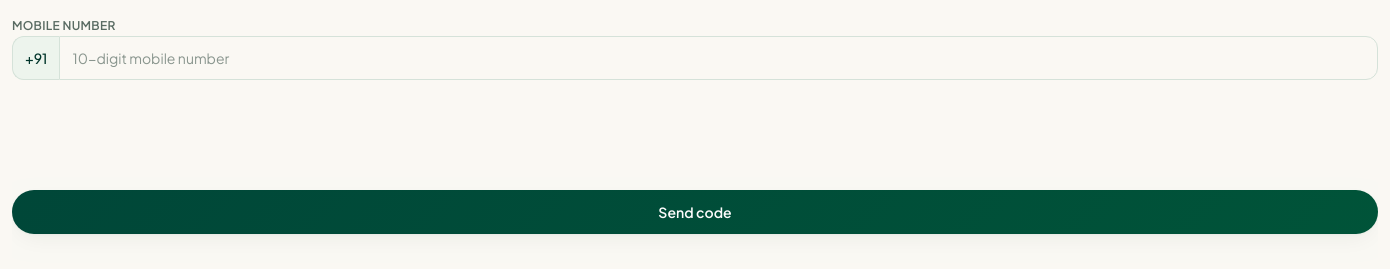
Test case: MobileOtpForm › resending › counts down, then resends, then stops after the allowed retries
Expected: the button "Send code" is enabled, [12, 190, 1378, 234]
Type "9876543210" into the field labelled "Mobile number". click: (719, 58)
box: [60, 36, 1378, 80]
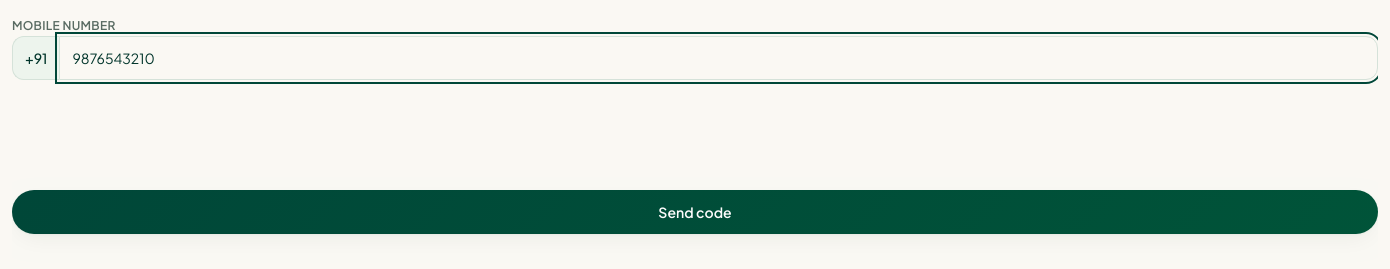
Click the button "Send code". click: (695, 212)
box: [12, 190, 1378, 234]
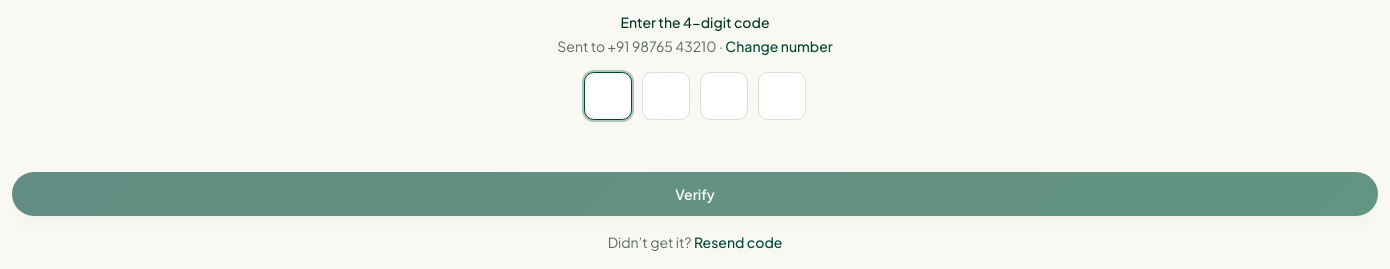
Now the text "Enter the 4-digit code" is shown, box [620, 13, 770, 31]
Now the text "Didn’t get it? Resend code" is shown, box [608, 232, 782, 252]
Click the button "Resend code". click: (738, 242)
box: [694, 232, 782, 252]
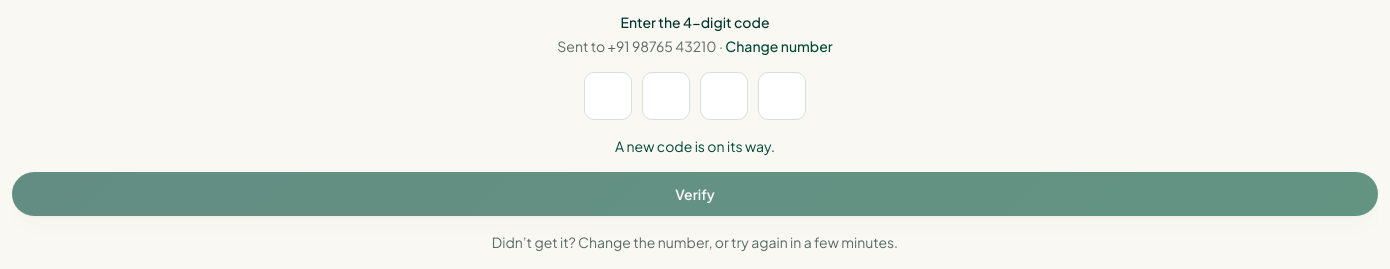
Now the text "A new code is on its way." is shown, box [615, 137, 775, 155]
Now the text "Change the number, or try again in a few minutes" is shown, box [492, 233, 898, 251]
